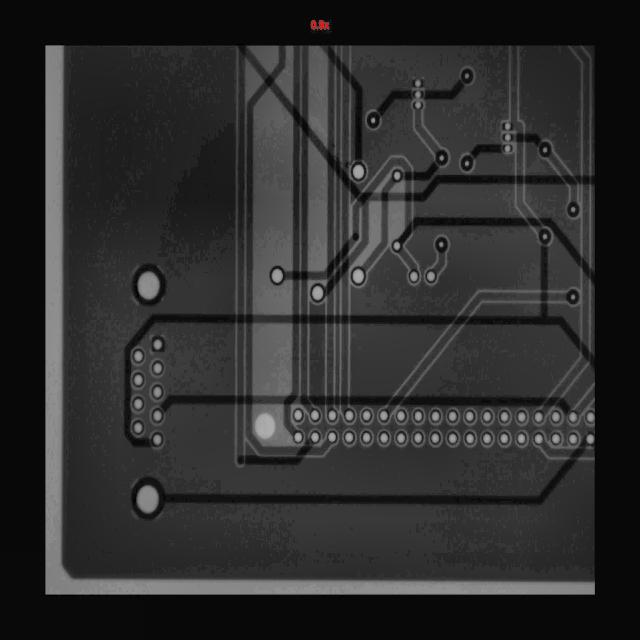Both: (129, 475, 168, 521), (130, 262, 167, 306), (254, 412, 276, 440), (457, 153, 477, 173), (563, 287, 582, 307), (309, 282, 326, 303), (268, 266, 285, 285), (350, 267, 366, 286), (434, 148, 450, 167), (537, 226, 552, 246), (537, 140, 553, 158), (434, 236, 449, 255), (351, 162, 366, 181), (366, 110, 381, 129), (459, 68, 474, 85), (131, 397, 145, 411), (568, 201, 579, 218), (424, 270, 438, 283), (151, 360, 163, 375), (151, 385, 163, 399), (132, 421, 144, 434), (412, 99, 424, 111), (447, 432, 458, 445), (152, 338, 163, 350), (396, 432, 406, 445), (152, 433, 162, 446), (409, 270, 419, 282), (551, 411, 561, 423), (293, 408, 303, 420), (362, 410, 371, 422), (134, 374, 143, 386), (134, 350, 143, 362), (534, 412, 543, 423), (517, 434, 526, 445), (465, 411, 474, 422), (448, 411, 457, 422), (414, 411, 423, 422), (397, 411, 406, 422), (362, 432, 371, 443), (153, 410, 162, 421), (500, 411, 508, 423), (466, 433, 474, 445), (380, 432, 388, 444), (483, 434, 492, 444), (345, 432, 354, 442), (586, 413, 594, 424), (500, 433, 508, 444), (380, 411, 388, 422), (311, 410, 319, 421), (393, 170, 401, 181), (518, 413, 526, 423), (483, 412, 491, 422), (414, 433, 422, 443), (431, 433, 439, 443), (346, 410, 354, 420), (328, 410, 336, 420), (294, 432, 302, 442), (311, 432, 319, 442), (586, 435, 594, 444), (535, 435, 543, 444), (432, 412, 440, 421), (393, 241, 400, 251), (569, 412, 576, 422), (570, 434, 577, 444), (329, 432, 336, 442), (552, 434, 559, 443), (415, 90, 421, 100), (504, 145, 511, 153), (415, 80, 421, 88), (504, 123, 510, 131), (505, 135, 510, 142)
L1: (104, 238, 595, 451), (163, 439, 593, 529), (397, 216, 593, 283), (161, 396, 572, 415), (280, 232, 370, 297), (322, 45, 367, 161), (236, 439, 313, 468), (372, 83, 416, 116), (422, 79, 466, 104), (400, 161, 440, 183), (469, 140, 504, 160), (510, 134, 542, 147), (500, 142, 514, 154), (501, 132, 514, 143), (501, 121, 513, 131)
L2: (201, 46, 334, 464), (360, 253, 570, 415), (541, 46, 592, 417), (494, 46, 545, 236), (296, 46, 314, 414), (284, 47, 300, 438), (353, 157, 412, 245), (361, 175, 397, 275), (237, 47, 245, 465), (327, 47, 335, 413), (341, 47, 349, 413), (543, 148, 586, 205), (335, 47, 341, 411), (408, 107, 442, 158), (538, 439, 594, 465), (573, 388, 599, 416), (397, 247, 419, 274), (432, 249, 448, 276)
